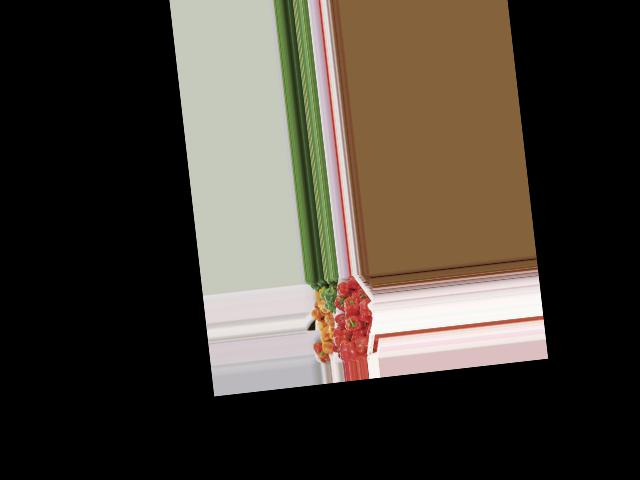bell_pepper: (357, 297, 374, 324)
